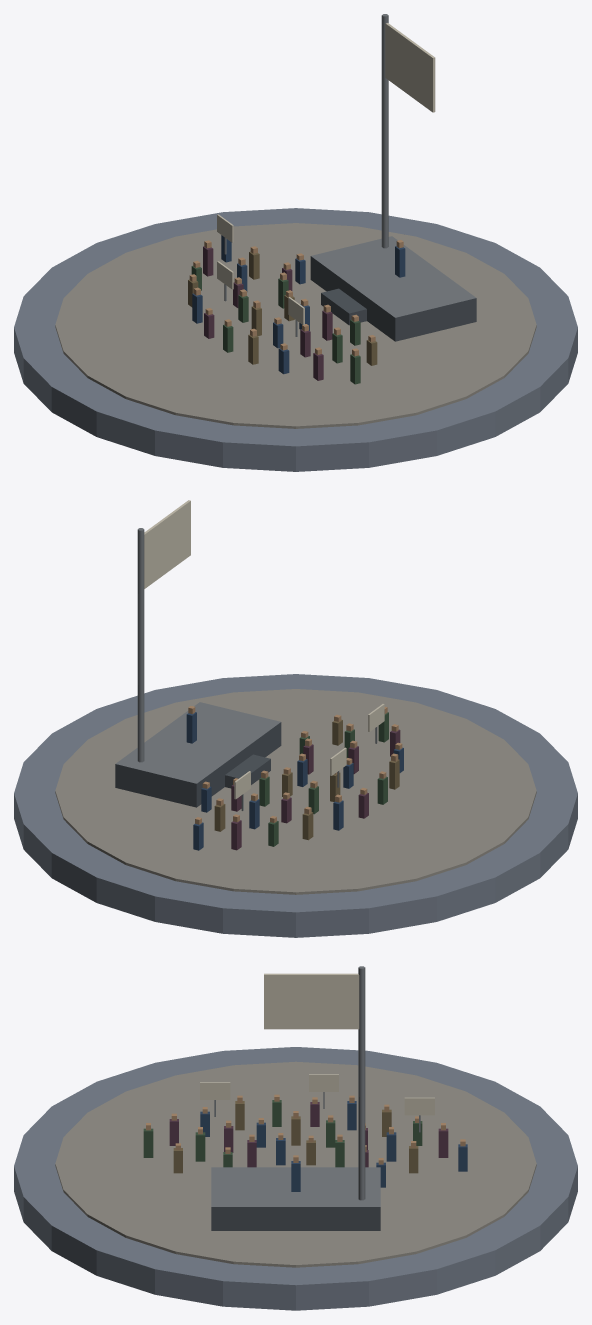
File: rally.glb
3 views of the same model, one above another, from view 1: azimuth 30°, elevation 25°; view 2: azimuth 150°, elevation 25°; view 3: azimuth 270°, elevation 25° (orthographic).
Parts seen in each view (by area): view 1: rally; view 2: rally; view 3: rally.
Part boxes in pixels (left/top/right/bottom): rally: left=14, top=14, right=577, bottom=471; rally: left=14, top=500, right=577, bottom=937; rally: left=14, top=966, right=577, bottom=1310.
Size of the model in its own units: 30 by 16.65 by 30.
